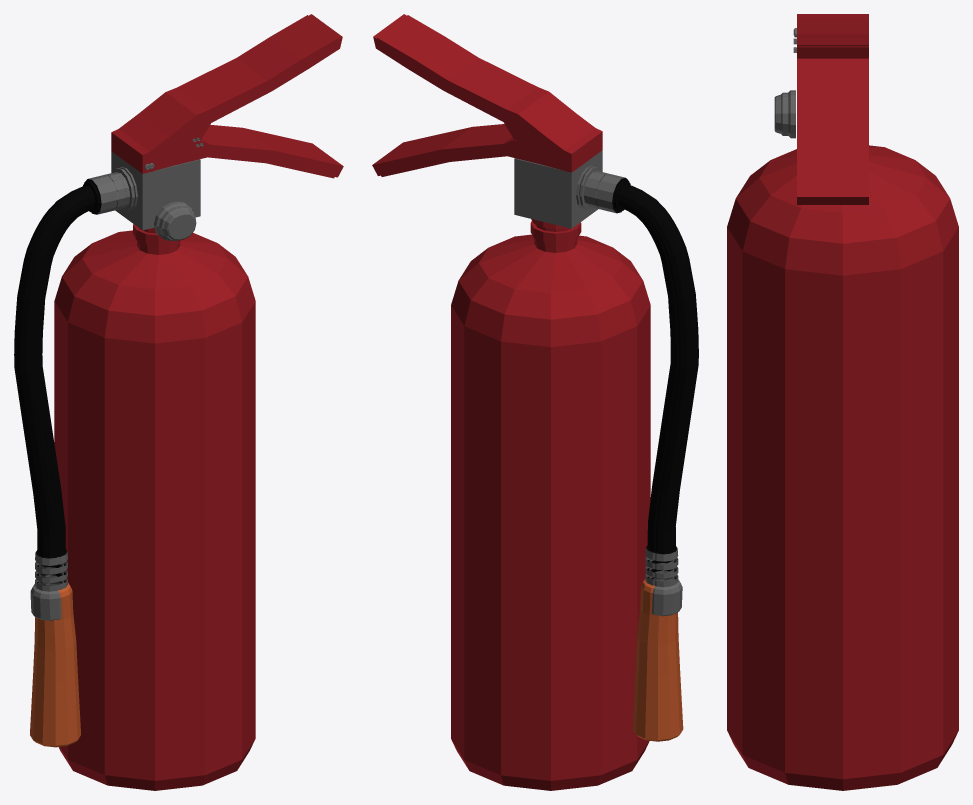
The model's file is extintorCO2.fbx.
3 renders of one model, left to right at view 1: azimuth 30°, elevation 25°; view 2: azimuth 150°, elevation 25°; view 3: azimuth 270°, elevation 25°, orthographic. The views are drawn at different scales.
Visible parts, largest first — view 1: Circle; view 2: Circle; view 3: Circle.
Part boxes in pixels (bbox=[...]): Circle: bbox=[14, 14, 343, 790]; Circle: bbox=[372, 14, 698, 790]; Circle: bbox=[727, 14, 958, 790].
Size of the model in its own units: 166 by 353 by 92.84.
